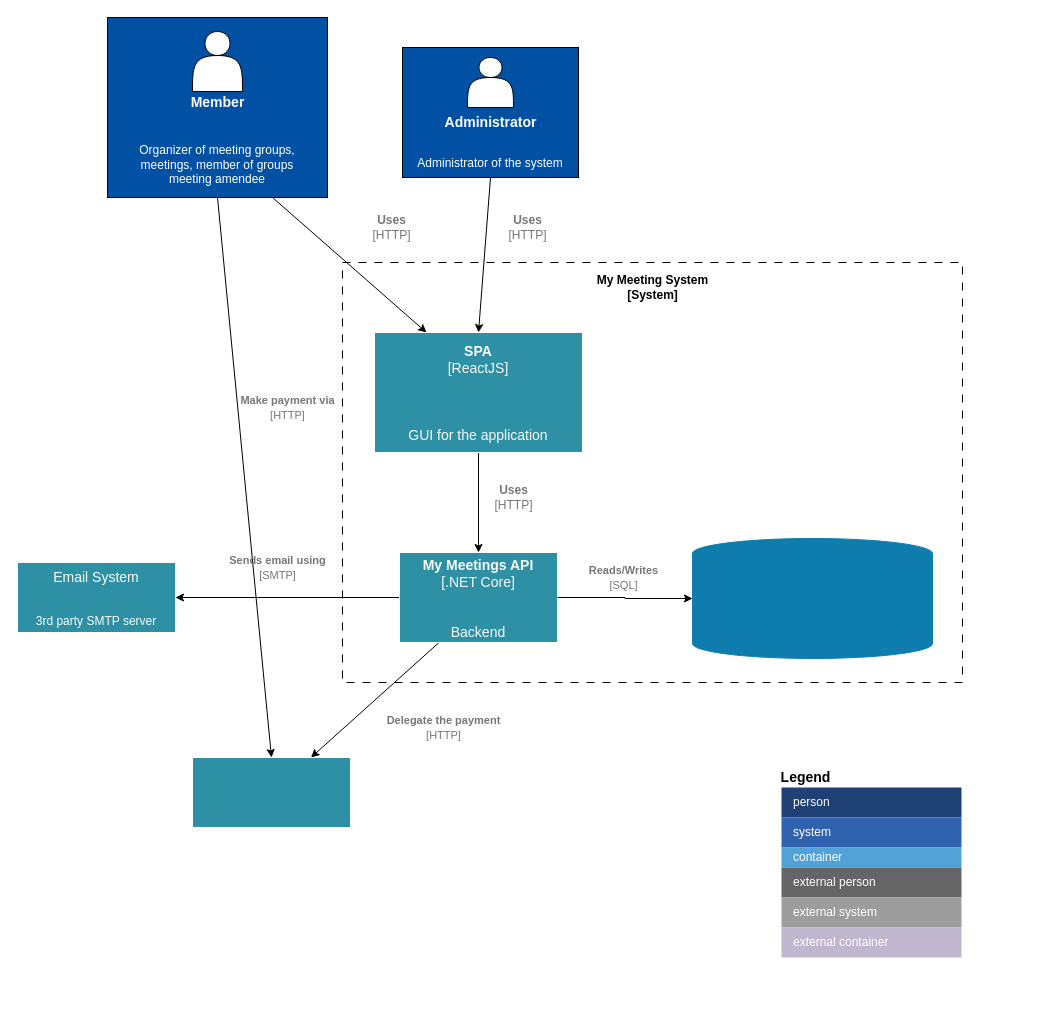
This 1055x1035 diagram has some shape labels left out. Each missing label, with the centre of its shape:
Database [Microsoft SQL: ] Data about meeting groups, members, meetings etc: [812,598]
Payment Gateway 3rd party payment server: [271,792]
